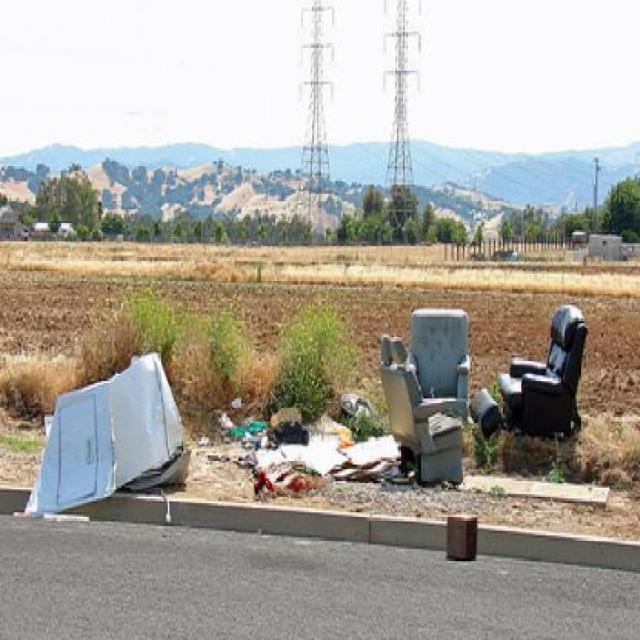garbage: (379, 294, 593, 488), (20, 351, 206, 506), (223, 385, 402, 499), (443, 508, 482, 570)
